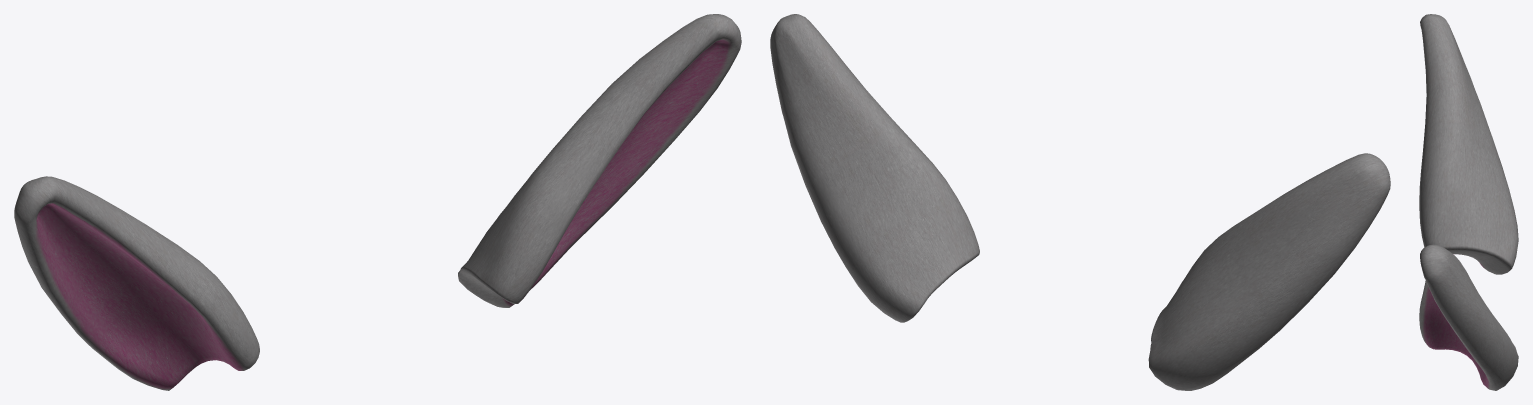
The model's file is bunnyEars.glb.
3 renders of one model, left to right at view 1: azimuth 30°, elevation 25°; view 2: azimuth 150°, elevation 25°; view 3: azimuth 270°, elevation 25°, orthographic. The views are drawn at different scales.
Parts seen in each view (by area): view 1: bunnyEar_toSend; view 2: bunnyEar_toSend; view 3: bunnyEar_toSend.
Part boxes in pixels (x1,y1,x2,y2): bunnyEar_toSend: [14, 14, 741, 390]; bunnyEar_toSend: [770, 14, 1390, 390]; bunnyEar_toSend: [1419, 14, 1518, 390].
Bounding box in the file's own units: 0.4766 × 0.179 × 0.0801.
1 material, 1 textured.
